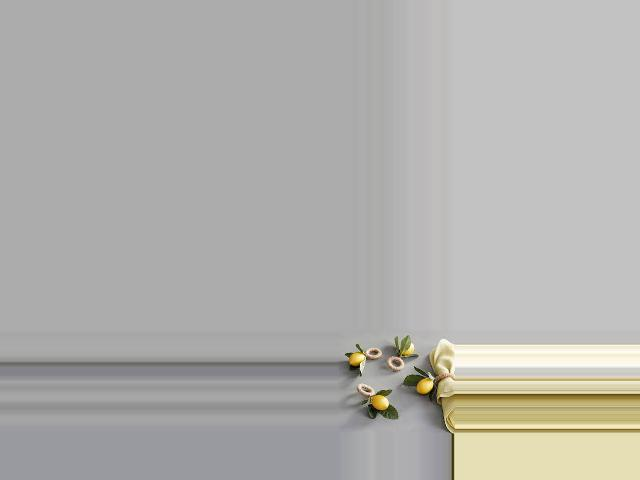lemon: (344, 352, 368, 370)
